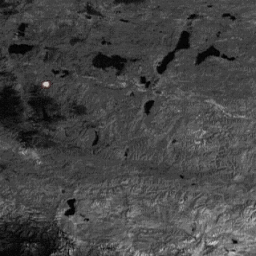Target: (41, 80, 51, 87)
